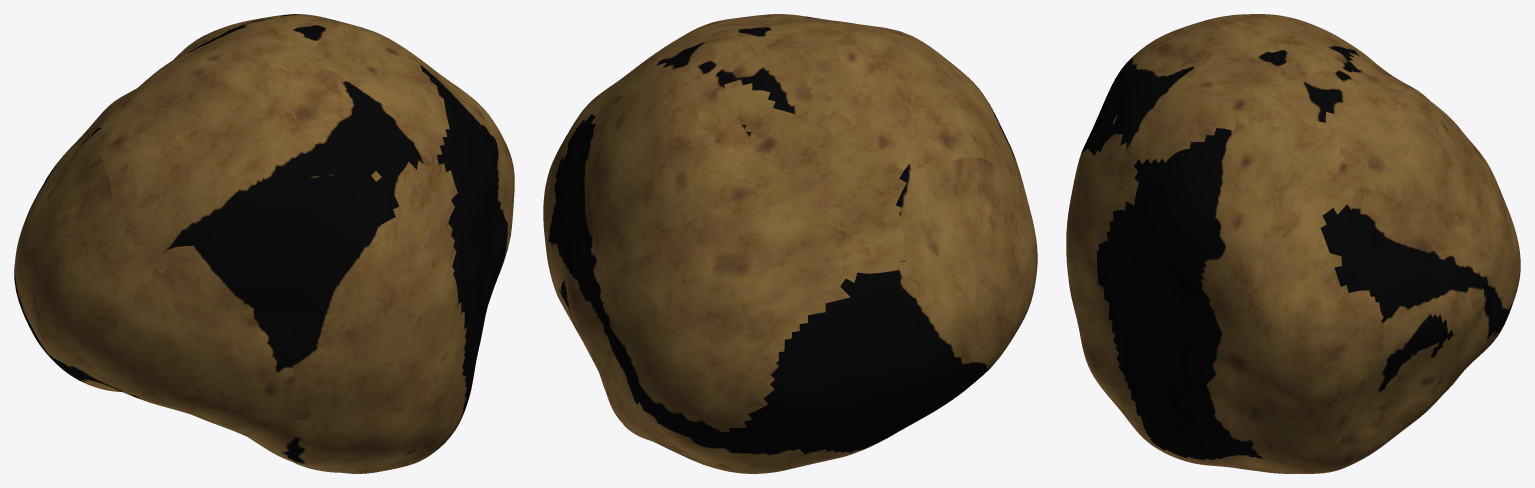
3 renders of one model, left to right at view 1: azimuth 30°, elevation 25°; view 2: azimuth 150°, elevation 25°; view 3: azimuth 270°, elevation 25°, orthographic. The views are drawn at different scales.
Parts seen in each view (by area): view 1: original_ico.010; view 2: original_ico.010; view 3: original_ico.010.
Part boxes in pixels (x1,y1,x2,y2): original_ico.010: (14, 14, 514, 473); original_ico.010: (543, 14, 1037, 473); original_ico.010: (1066, 14, 1520, 473).
Bounding box in the file's own units: 3.03 × 2.69 × 2.75.
